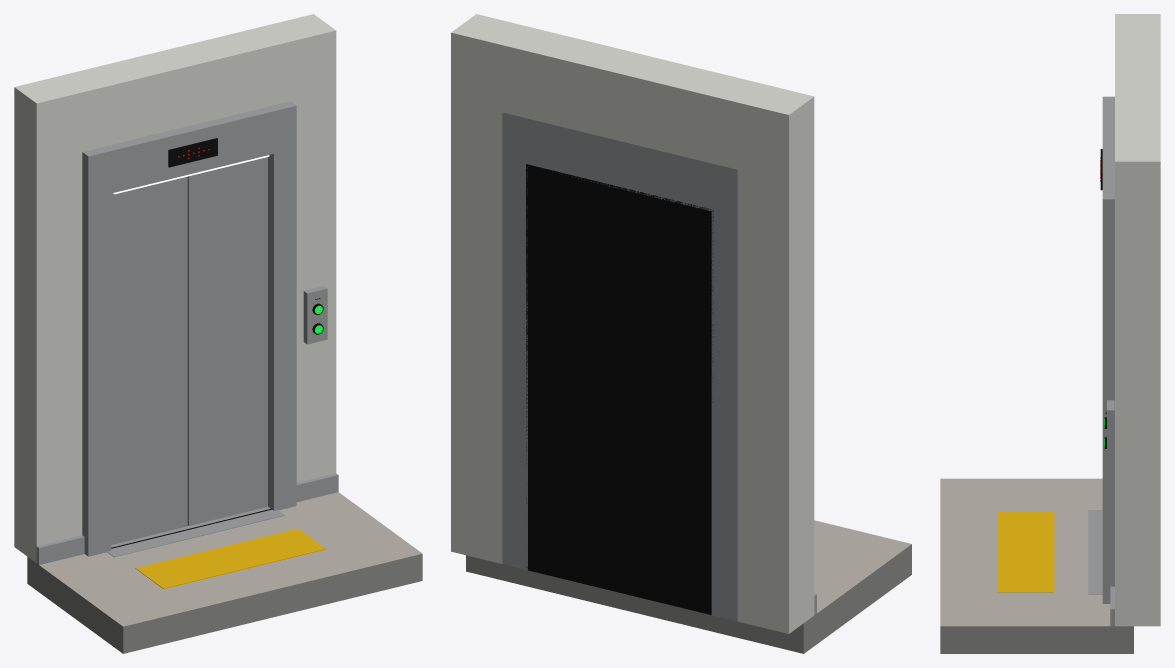
File: gteki_lift_portal_w1000.glb
The picture shows the model from 3 angles, left to right: view 1: azimuth 30°, elevation 25°; view 2: azimuth 150°, elevation 25°; view 3: azimuth 270°, elevation 25°; orthographic projection. The views are drawn at different scales.
Parts seen in each view (by area): view 1: VIS_body; view 2: VIS_body; view 3: VIS_body.
Part boxes in pixels (x1,y1,x2,y2): VIS_body: [14, 14, 422, 653]; VIS_body: [451, 14, 911, 653]; VIS_body: [940, 14, 1160, 653].
Size of what is drawn, in the model's own units: 1.84 by 2.86 by 1.16.
1 material, 1 textured.
